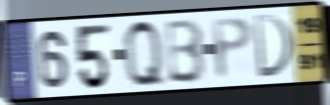5: (73, 22, 113, 91)
6: (36, 28, 71, 91)
B: (165, 16, 208, 86)
D: (251, 12, 296, 80)
P: (209, 14, 255, 82)
Q: (121, 16, 169, 90)
